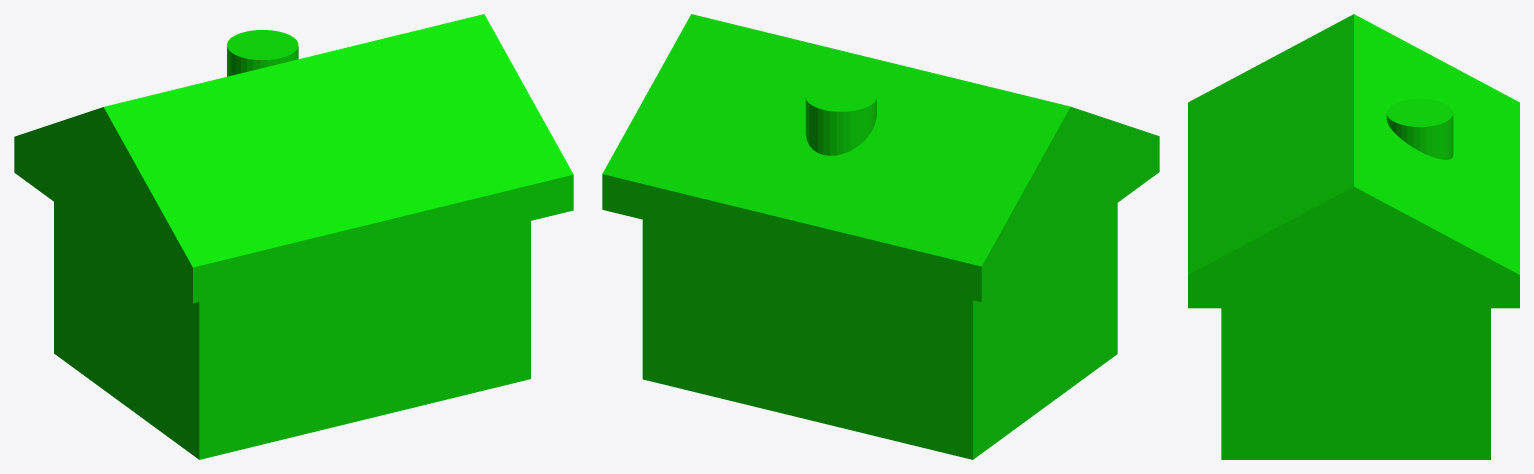
File: uploads_files_2785968_monopoly-house.fbx
3 renders of one model, left to right at view 1: azimuth 30°, elevation 25°; view 2: azimuth 150°, elevation 25°; view 3: azimuth 270°, elevation 25°, orthographic. The views are drawn at different scales.
Visible parts, largest first — view 1: Monopoly House; view 2: Monopoly House; view 3: Monopoly House.
Boxes of the visible parts, box(x1,y1,x2,y2) form: Monopoly House: box(14, 14, 573, 459); Monopoly House: box(602, 14, 1159, 459); Monopoly House: box(1188, 14, 1519, 459).
Bounding box in the file's own units: 1226 × 943 × 996.
